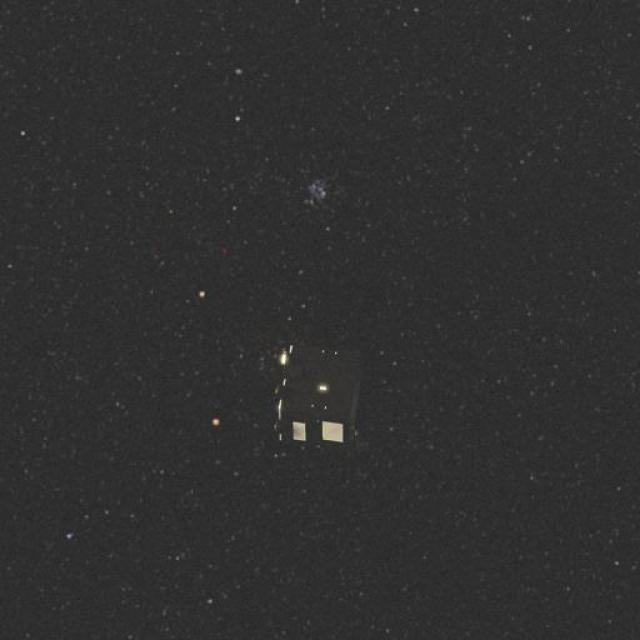proba_3_ocs: (250, 303, 384, 459)
